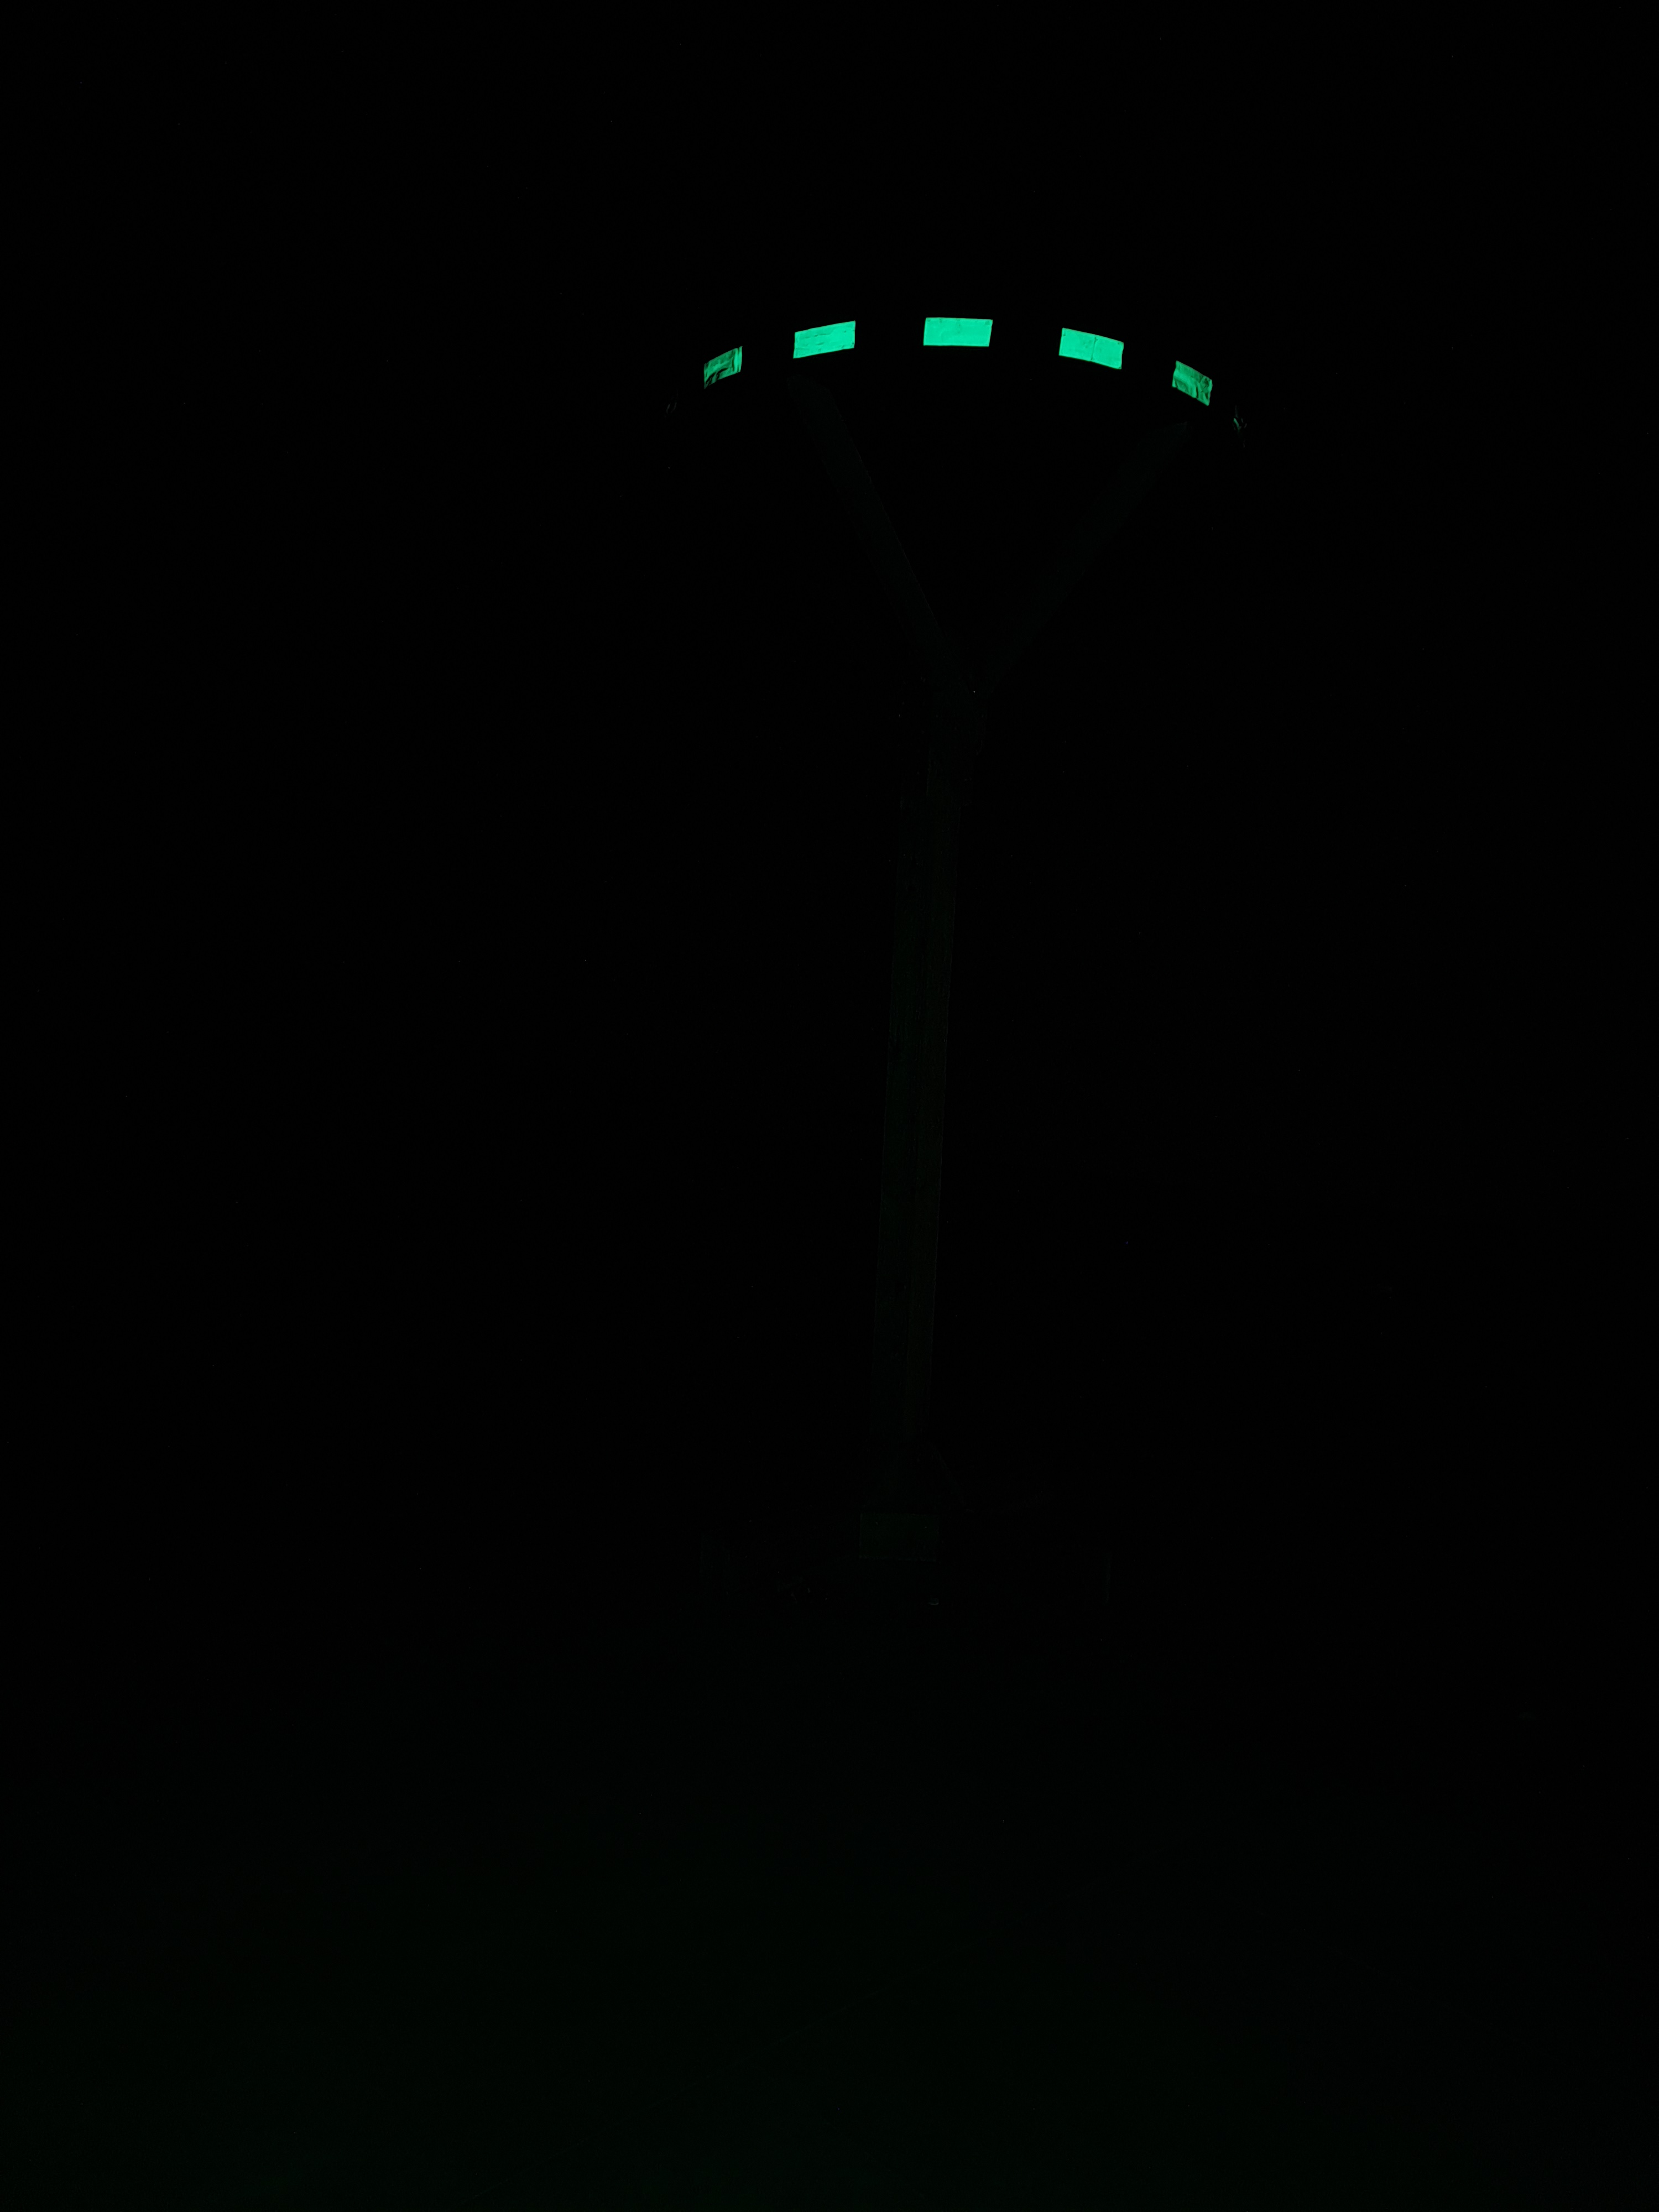hoop: (695, 300, 1215, 411)
